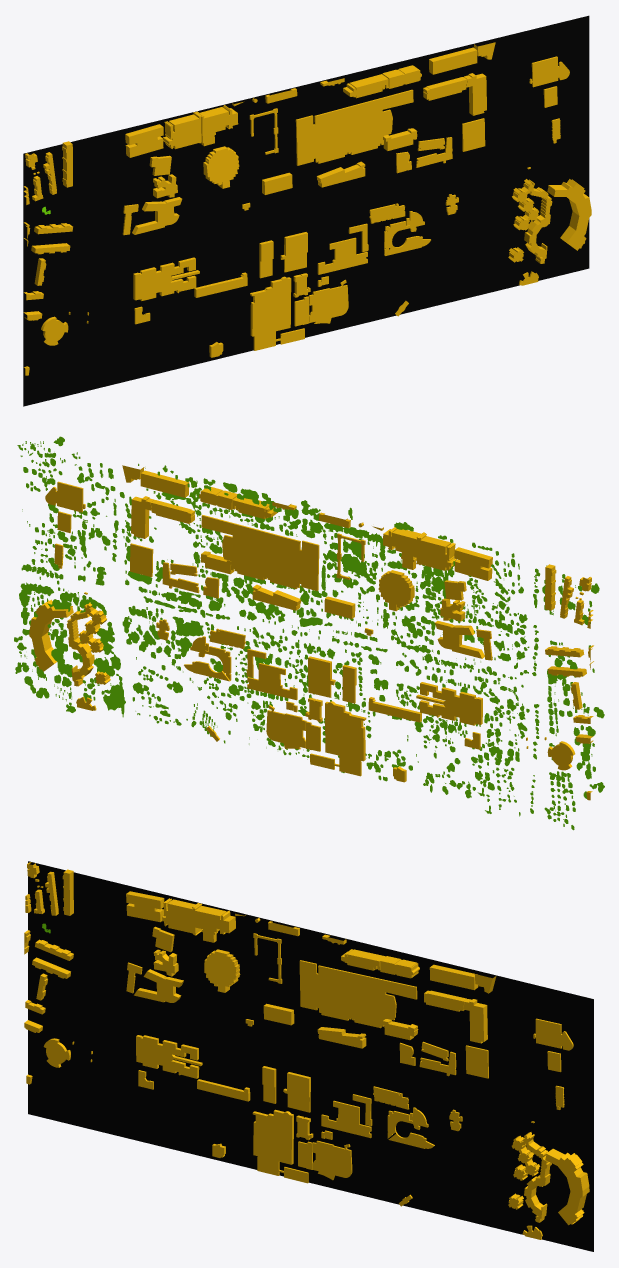
The model's file is new_trees_06.glb.
The picture shows the model from 3 angles, top to bottom: view 1: azimuth 30°, elevation 25°; view 2: azimuth 150°, elevation 25°; view 3: azimuth 330°, elevation 25°; orthographic projection.
Visible parts, largest first — view 1: Layer 04, existing_building - Copy; view 2: existing_building - Copy, new trees, treesurface; view 3: Layer 04, existing_building - Copy.
Part boxes in pixels (bbox=[...]): Layer 04: bbox=[23, 15, 589, 406]; existing_building - Copy: bbox=[23, 42, 591, 375]; existing_building - Copy: bbox=[29, 465, 593, 800]; new trees: bbox=[20, 441, 599, 828]; treesurface: bbox=[14, 436, 604, 830]; Layer 04: bbox=[28, 861, 593, 1251]; existing_building - Copy: bbox=[24, 862, 589, 1239].
Size of the model in its own units: 1035 by 458 by 20.85.
